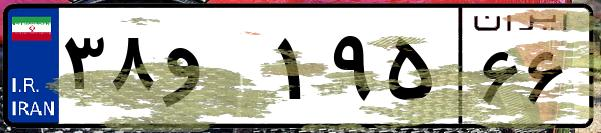1: (270, 28, 330, 110)
3: (57, 26, 110, 100)
5: (385, 28, 445, 110)
6: (475, 38, 525, 113), (525, 38, 570, 115)
8: (110, 28, 158, 98)
9: (330, 28, 385, 110)
و: (158, 20, 270, 120)
